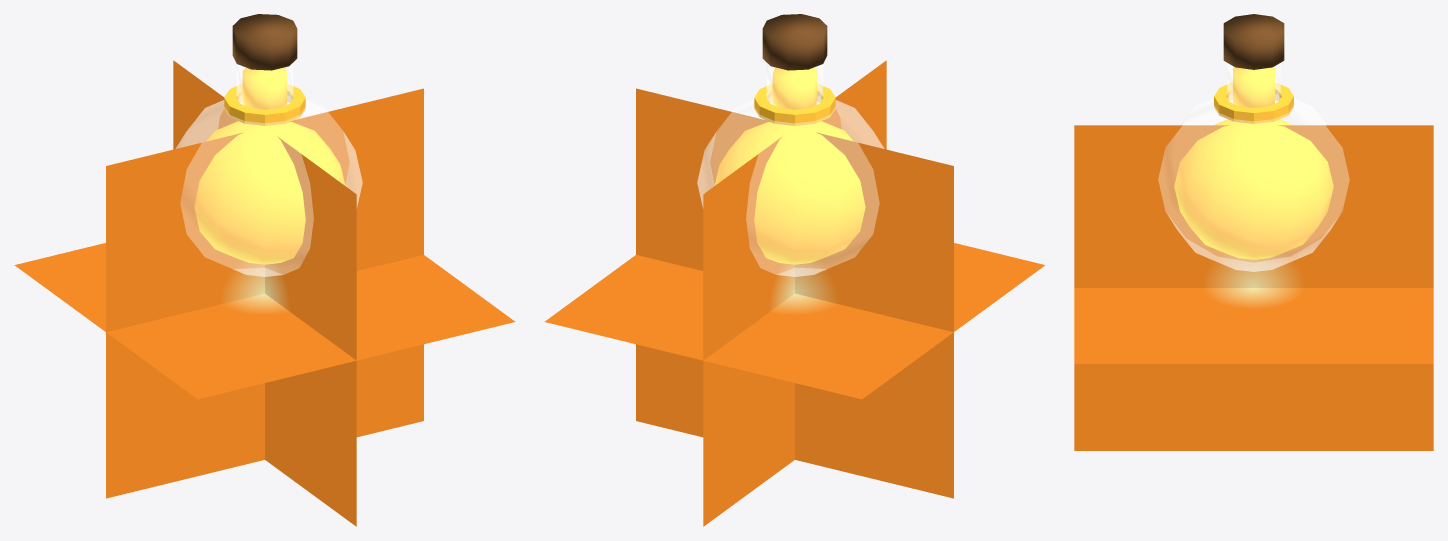
File: pot_rage.glb
3 renders of one model, left to right at view 1: azimuth 30°, elevation 25°; view 2: azimuth 150°, elevation 25°; view 3: azimuth 270°, elevation 25°, orthographic. The views are drawn at different scales.
Visible parts, largest first — view 1: fx_pot_rage_glow, fx_pot_rage_glass, fx_pot_rage_liquid, fx_pot_rage_cork, fx_pot_rage_gold; view 2: fx_pot_rage_glow, fx_pot_rage_glass, fx_pot_rage_liquid, fx_pot_rage_cork, fx_pot_rage_gold; view 3: fx_pot_rage_glow, fx_pot_rage_glass, fx_pot_rage_liquid, fx_pot_rage_cork, fx_pot_rage_gold.
Boxes of the visible parts, x1,y1,x2,y2 form: fx_pot_rage_glow: (14,60,515,526); fx_pot_rage_glass: (175,63,362,276); fx_pot_rage_liquid: (194,67,345,264); fx_pot_rage_cork: (232,14,297,70); fx_pot_rage_gold: (224,84,305,125); fx_pot_rage_glow: (544,60,1045,526); fx_pot_rage_glass: (697,63,884,276); fx_pot_rage_liquid: (714,67,865,264); fx_pot_rage_cork: (762,14,827,70); fx_pot_rage_gold: (754,84,835,125); fx_pot_rage_glow: (1074,125,1433,450); fx_pot_rage_glass: (1158,63,1349,271); fx_pot_rage_liquid: (1174,67,1333,259); fx_pot_rage_cork: (1223,14,1284,69); fx_pot_rage_gold: (1214,82,1293,123).
Size of the model in its own units: 0.9 by 1.17 by 0.9.
Materials: 5 (1 with a texture image).
